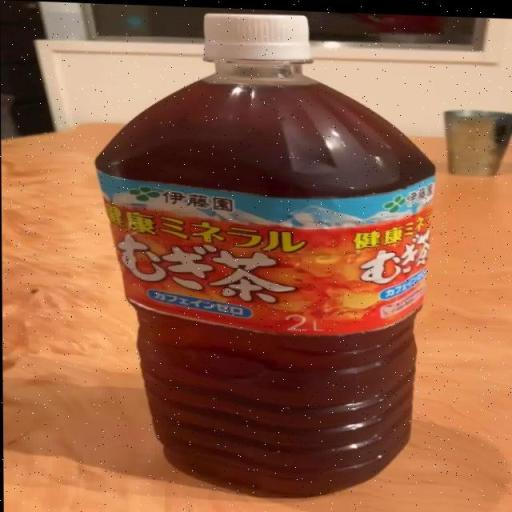plastic: (93, 11, 437, 498)
